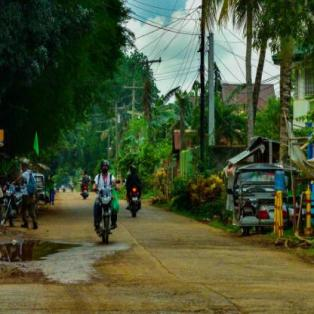Motocicleta: (84, 182, 124, 244)
